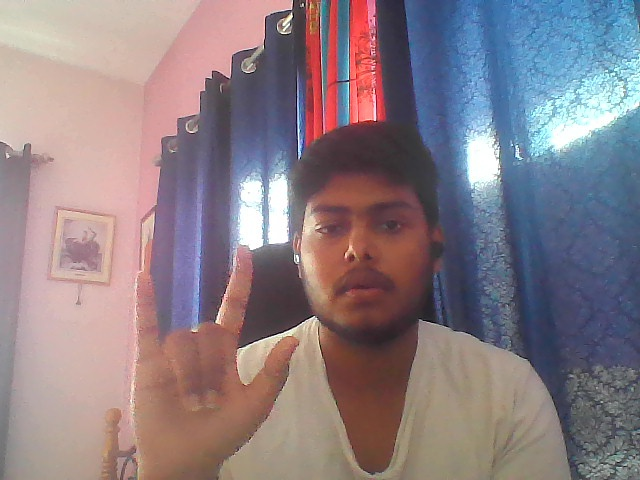I Love You: (128, 242, 303, 472)
